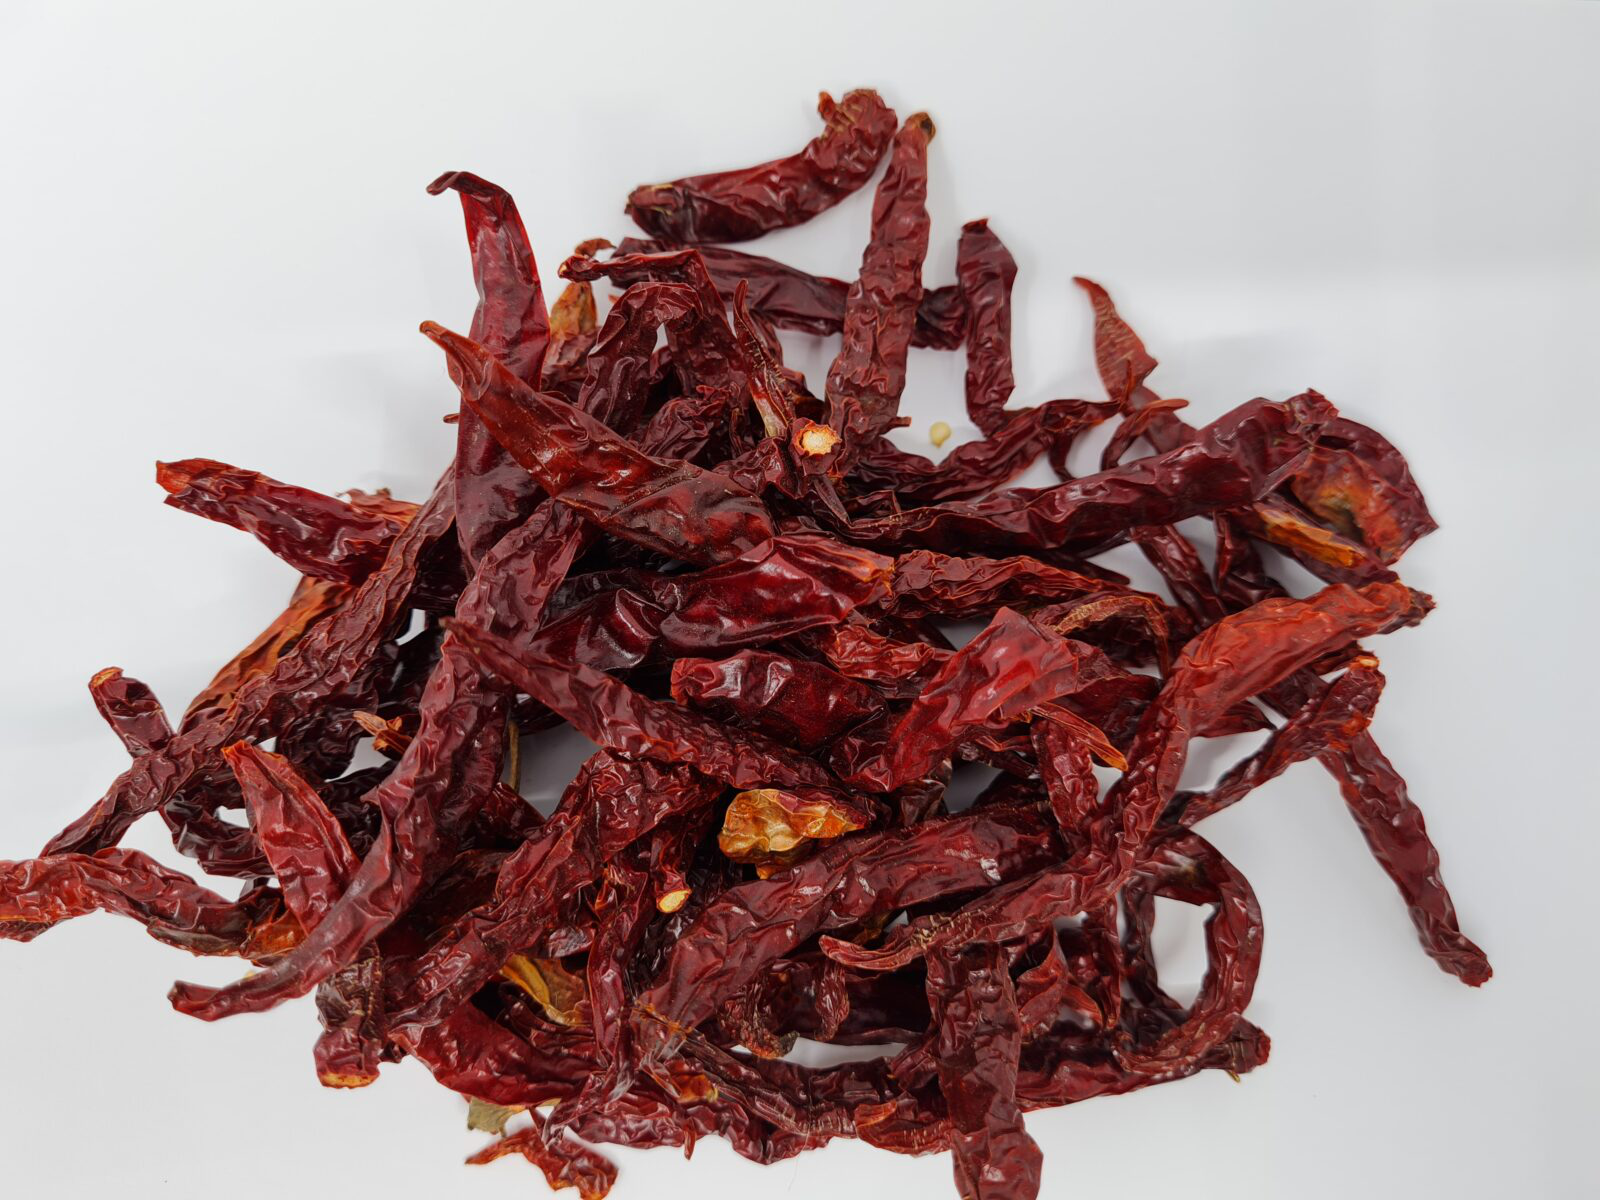Cabai: (226, 146, 1419, 1155)
